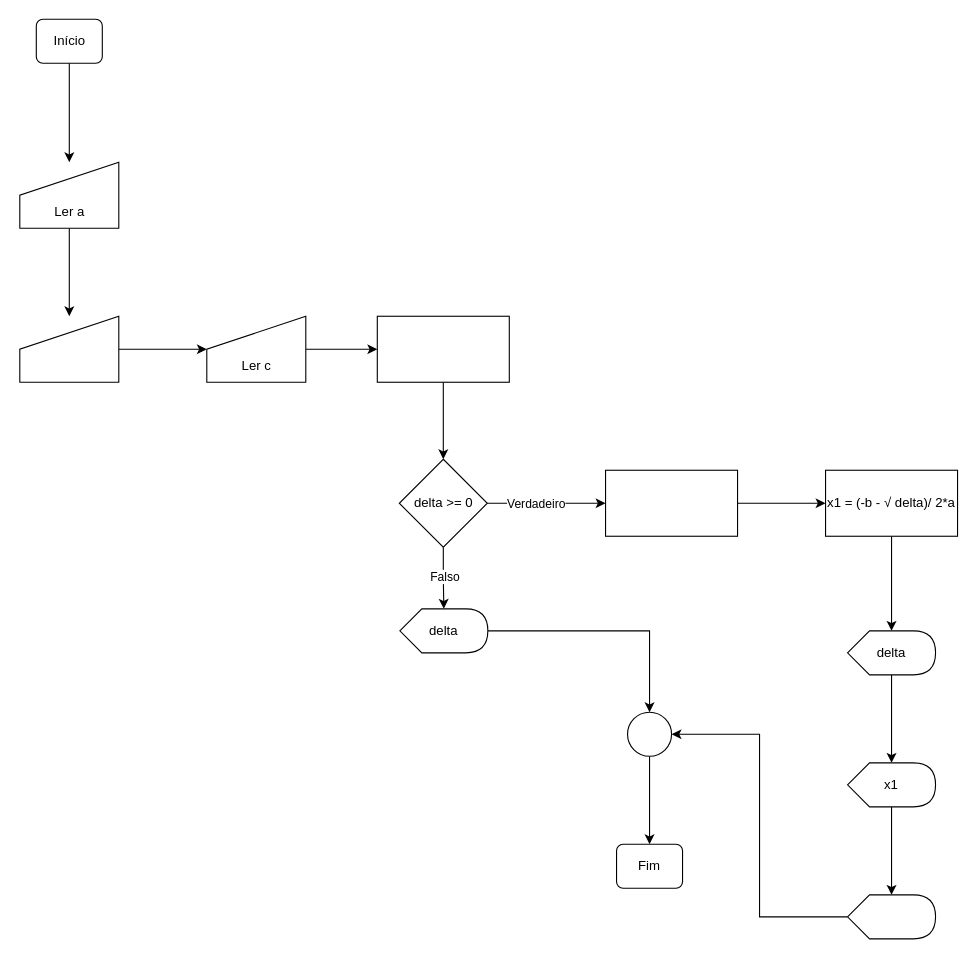
Image size: 977x958. Some labels were removed from this diagram. Each missing label, with the centre of its shape:
delta = b²-4ac: [442,348]
Ler b: [69,348]
x1 = (-b + √ delta)/ 2*a: [671,502]
x2: [891,916]
